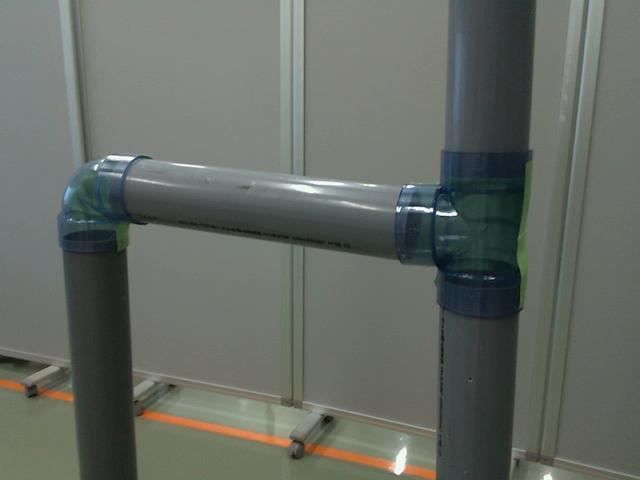bent: (59, 150, 154, 253)
junction: (393, 147, 536, 307)
